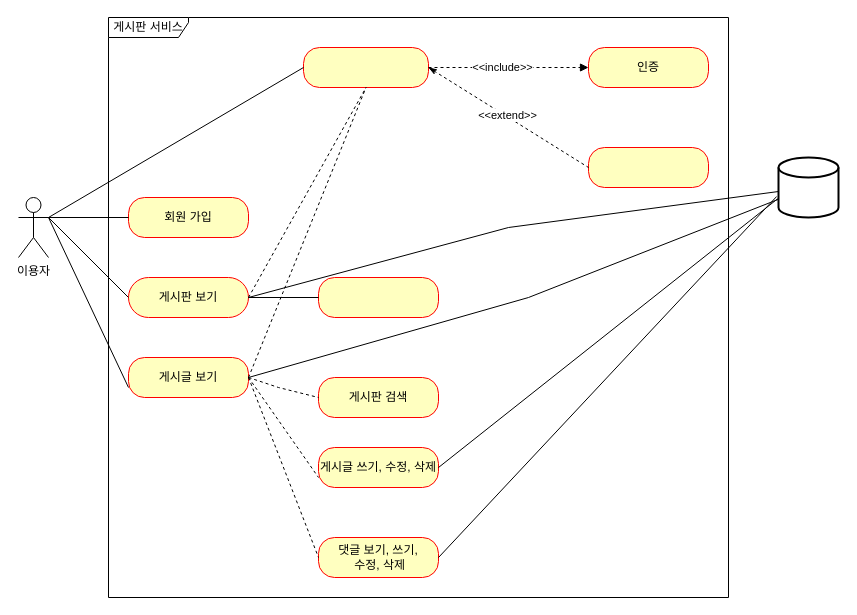
Some shapes in this 857 by 615 pixel diagram are drawn without their labels. Each missing label, with the centre of its shape:
DB: point (808, 187)
게시판 정렬하기: point (378, 297)
로그인 실패: point (648, 167)
회원 로그인: point (365, 67)
